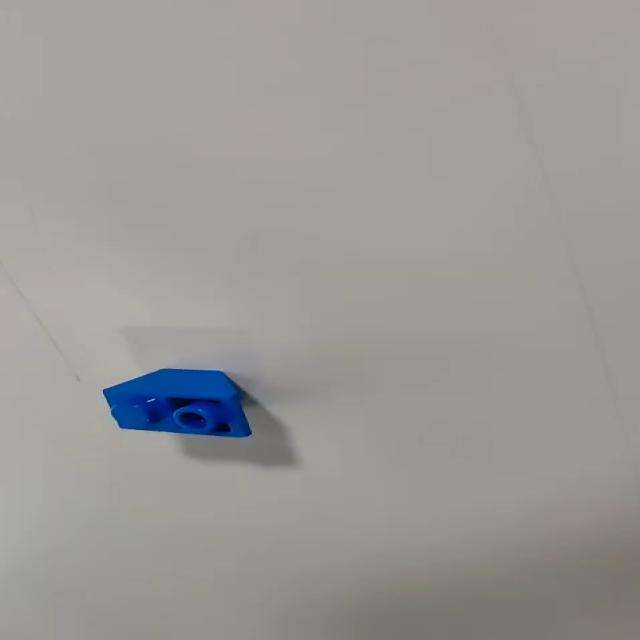X1x2x1: (101, 364, 261, 445)
